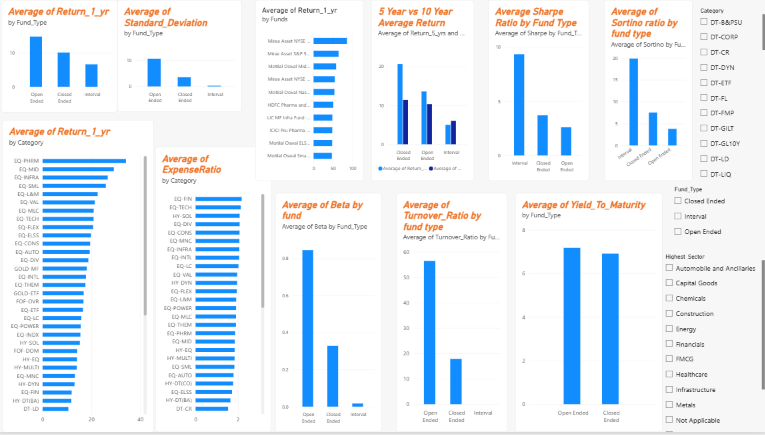

The page's visual inventory and layout, read from the dashboard file:
{"tool":"powerbi","page":{"name":"Performance Analysis","canvas":[1920,1080],"ordinal":1},"visuals":[{"type":"clusteredColumnChart","fields":{"Category":["final_cleaned_mutual_fund_data.Fund_Type"],"Y":["Avg(final_cleaned_mutual_fund_data.Return_1_yr)"]},"box":[9.8,0,290.2,280.4],"z":0},{"type":"clusteredBarChart","fields":{"Category":["final_cleaned_mutual_fund_data.Category"],"Y":["Avg(final_cleaned_mutual_fund_data.Return_1_yr)"]},"box":[11.8,300,378.4,780.4],"z":1000},{"type":"clusteredColumnChart","fields":{"Category":["final_cleaned_mutual_fund_data.Fund_Type"],"Y":["Avg(final_cleaned_mutual_fund_data.Standard_Deviation)"]},"box":[299.8,0,311.2,279.4],"z":2000},{"type":"clusteredBarChart","fields":{"Category":["final_cleaned_mutual_fund_data.Category"],"Y":["Avg(final_cleaned_mutual_fund_data.ExpenseRatio)"]},"box":[395,367.5,290,712.5],"z":3000},{"type":"clusteredBarChart","fields":{"Category":["final_cleaned_mutual_fund_data.Funds"],"Y":["Avg(final_cleaned_mutual_fund_data.Return_1_yr)"]},"box":[645.1,0,270.3,452],"z":4000},{"type":"clusteredColumnChart","title":"5 Year vs 10 Year Average Return","fields":{"Category":["final_cleaned_mutual_fund_data.Fund_Type"],"Y":["Avg(final_cleaned_mutual_fund_data.Return_5_yrs)","Avg(final_cleaned_mutual_fund_data.Return_10_yrs)"]},"box":[935.8,0,256.7,452],"z":5000},{"type":"clusteredColumnChart","title":"Average Sharpe Ratio by Fund Type","fields":{"Category":["final_cleaned_mutual_fund_data.Fund_Type"],"Y":["Avg(final_cleaned_mutual_fund_data.Sharpe)"]},"box":[1226.5,0,252.1,452],"z":6000},{"type":"clusteredColumnChart","title":"Average of Sortino ratio by fund type","fields":{"Category":["final_cleaned_mutual_fund_data.Fund_Type"],"Y":["Avg(final_cleaned_mutual_fund_data.Sortino)"]},"box":[1517.2,0,220.3,452],"z":7000},{"type":"clusteredColumnChart","title":"Average of Beta by fund","fields":{"Category":["final_cleaned_mutual_fund_data.Fund_Type"],"Y":["Avg(final_cleaned_mutual_fund_data.Beta)"]},"box":[695,481.5,265.7,597.4],"z":8000},{"type":"clusteredColumnChart","title":"Average of Turnover_Ratio by fund type","fields":{"Category":["final_cleaned_mutual_fund_data.Fund_Type"],"Y":["Avg(final_cleaned_mutual_fund_data.Turnover_Ratio)"]},"box":[997.1,481.5,277.1,597.4],"z":9000},{"type":"clusteredColumnChart","fields":{"Category":["final_cleaned_mutual_fund_data.Fund_Type"],"Y":["Avg(final_cleaned_mutual_fund_data.Yield_To_Maturity)"]},"box":[1294.6,481.5,368,597.4],"z":10000},{"type":"slicer","fields":{"Values":["final_cleaned_mutual_fund_data.Fund_Type"]},"box":[1685.3,465.6,213.5,149.9],"z":11000},{"type":"slicer","fields":{"Values":["final_cleaned_mutual_fund_data.Highest_Sector"]},"box":[1662.6,631.4,256.7,447.4],"z":12000},{"type":"slicer","fields":{"Values":["final_cleaned_mutual_fund_data.Category"]},"box":[1748.9,18.2,170.3,433.8],"z":13000}]}

Visuals, with their boxes in screenshot pixels (x1, y1, x2, y2), scaled from the page's 1920x1080 canvas onto the 765x435 screenshot:
clusteredColumnChart - final_cleaned_mutual_fund_data.Fund_Type x Avg(final_cleaned_mutual_fund_data.Return_1_yr): bbox=[4, 0, 120, 113]
clusteredBarChart - final_cleaned_mutual_fund_data.Category x Avg(final_cleaned_mutual_fund_data.Return_1_yr): bbox=[5, 121, 155, 434]
clusteredColumnChart - final_cleaned_mutual_fund_data.Fund_Type x Avg(final_cleaned_mutual_fund_data.Standard_Deviation): bbox=[119, 0, 243, 113]
clusteredBarChart - final_cleaned_mutual_fund_data.Category x Avg(final_cleaned_mutual_fund_data.ExpenseRatio): bbox=[157, 148, 273, 434]
clusteredBarChart - final_cleaned_mutual_fund_data.Funds x Avg(final_cleaned_mutual_fund_data.Return_1_yr): bbox=[257, 0, 365, 182]
"5 Year vs 10 Year Average Return" clusteredColumnChart: bbox=[373, 0, 475, 182]
"Average Sharpe Ratio by Fund Type" clusteredColumnChart: bbox=[489, 0, 589, 182]
"Average of Sortino ratio by fund type" clusteredColumnChart: bbox=[605, 0, 692, 182]
"Average of Beta by fund" clusteredColumnChart: bbox=[277, 194, 383, 434]
"Average of Turnover_Ratio by fund type" clusteredColumnChart: bbox=[397, 194, 508, 434]
clusteredColumnChart - final_cleaned_mutual_fund_data.Fund_Type x Avg(final_cleaned_mutual_fund_data.Yield_To_Maturity): bbox=[516, 194, 662, 434]
slicer - final_cleaned_mutual_fund_data.Fund_Type: bbox=[671, 188, 757, 248]
slicer - final_cleaned_mutual_fund_data.Highest_Sector: bbox=[662, 254, 764, 434]
slicer - final_cleaned_mutual_fund_data.Category: bbox=[697, 7, 764, 182]
